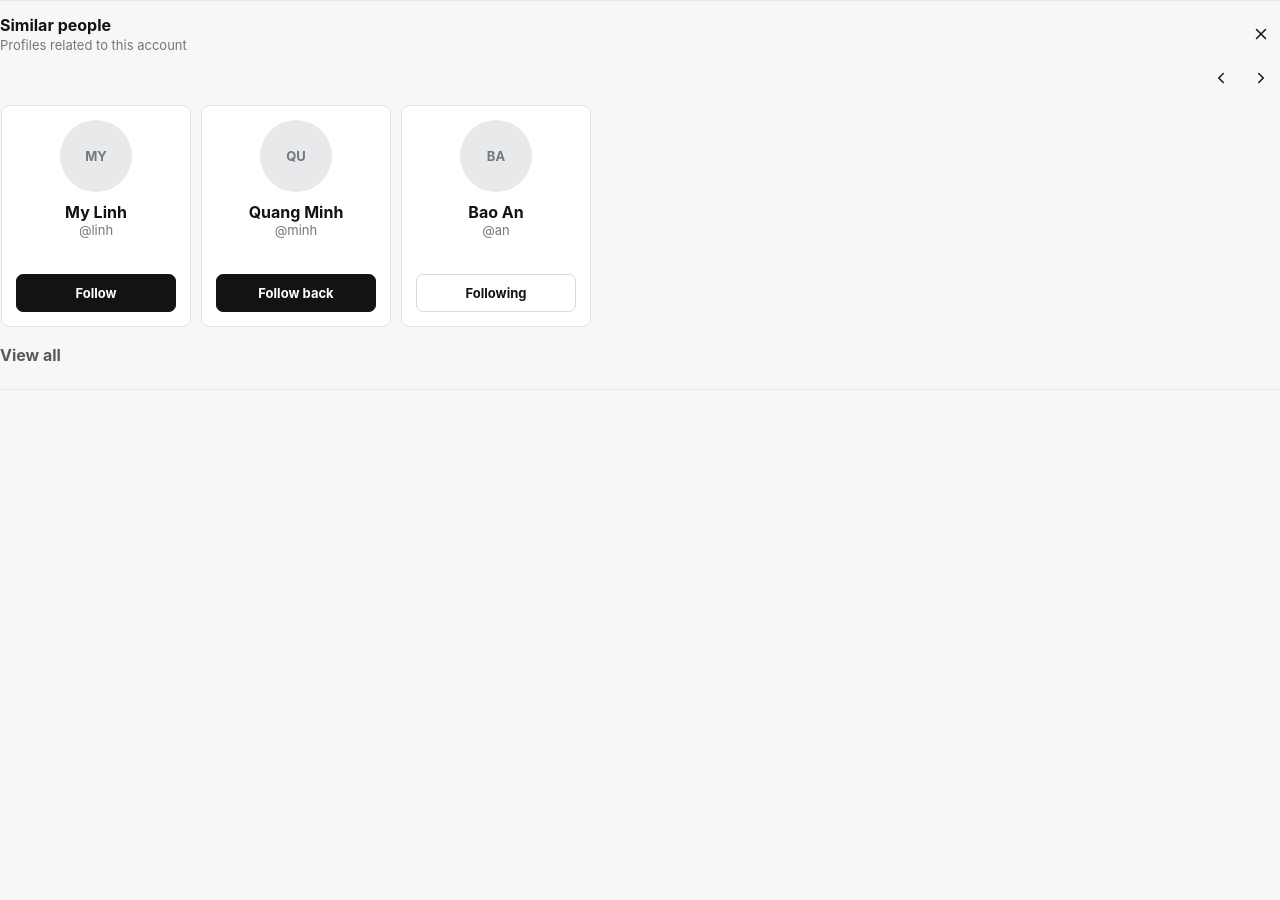
Scenario: SimilarUsersSection › opens the full result dialog and updates follow state immediately
Click the button with aria-label "Follow My Linh" at coordinates (96, 293), box [16,274,176,312]
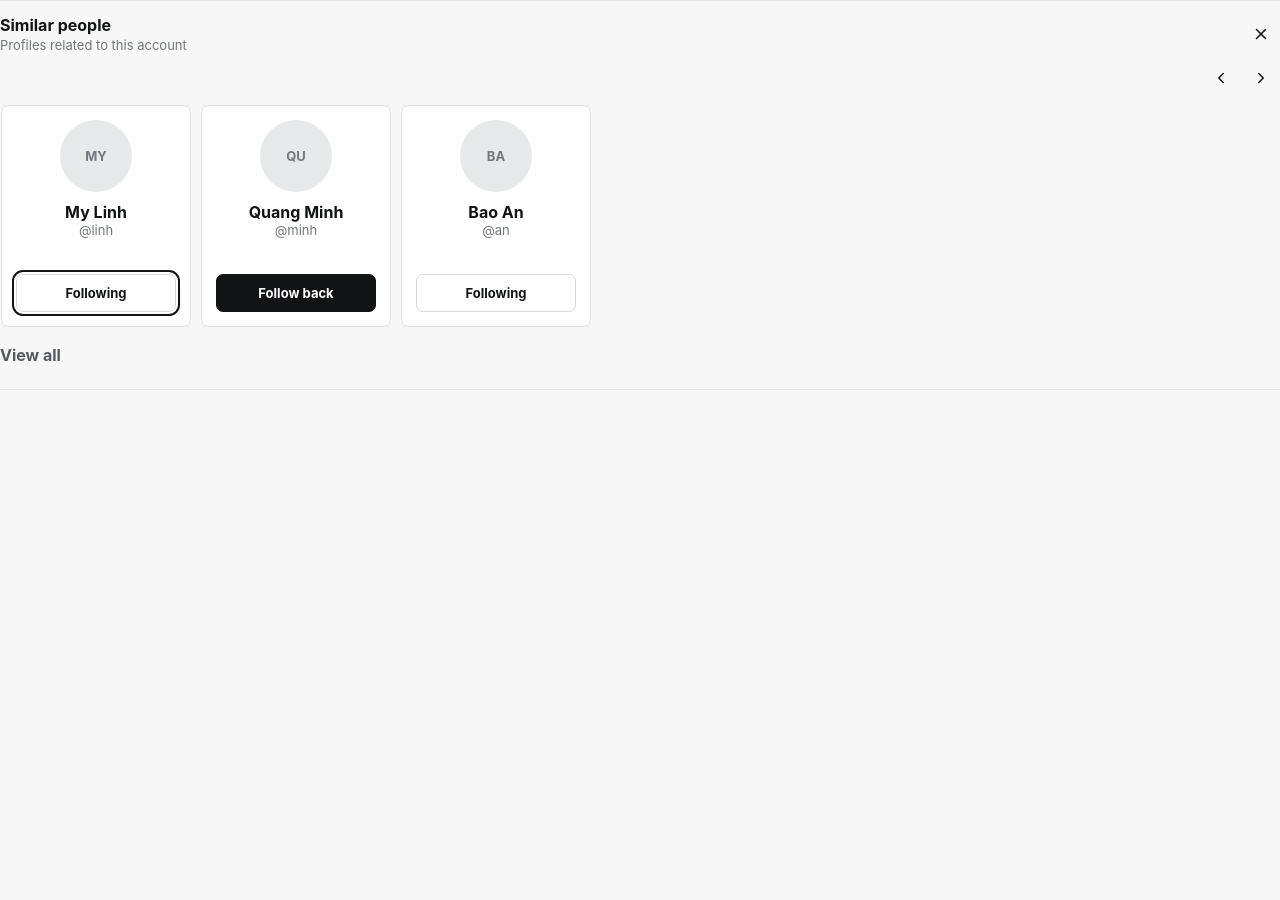
Expected: the button with aria-label "Unfollow My Linh" is shown, [16,274,176,312]
Click the button with aria-label "View all similar people" at coordinates (30, 355), box [0,335,61,375]
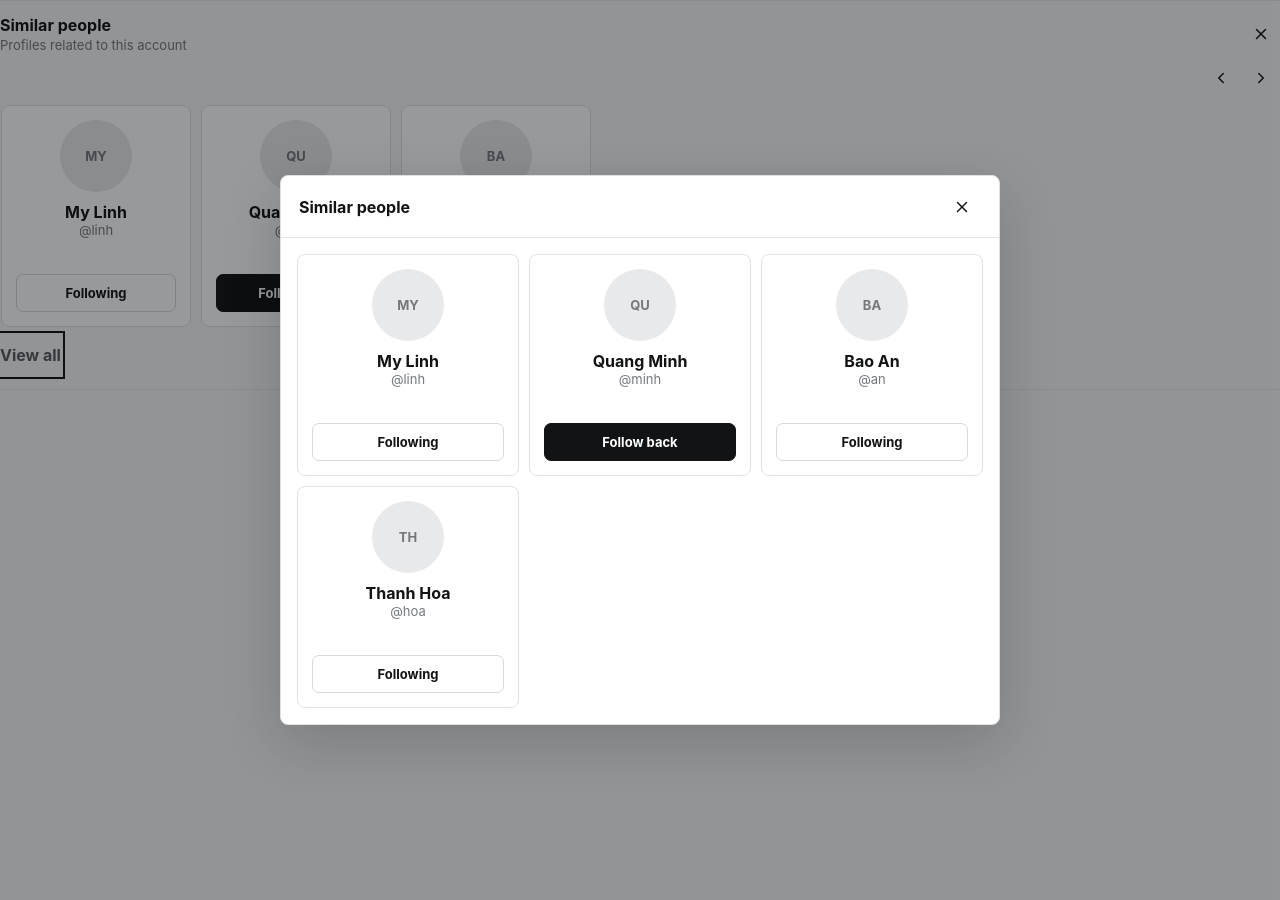
Expected: the dialog "Similar people" is shown, [280,175,1000,725]
Expected: the text "Thanh Hoa" is shown, [366,583,450,603]
